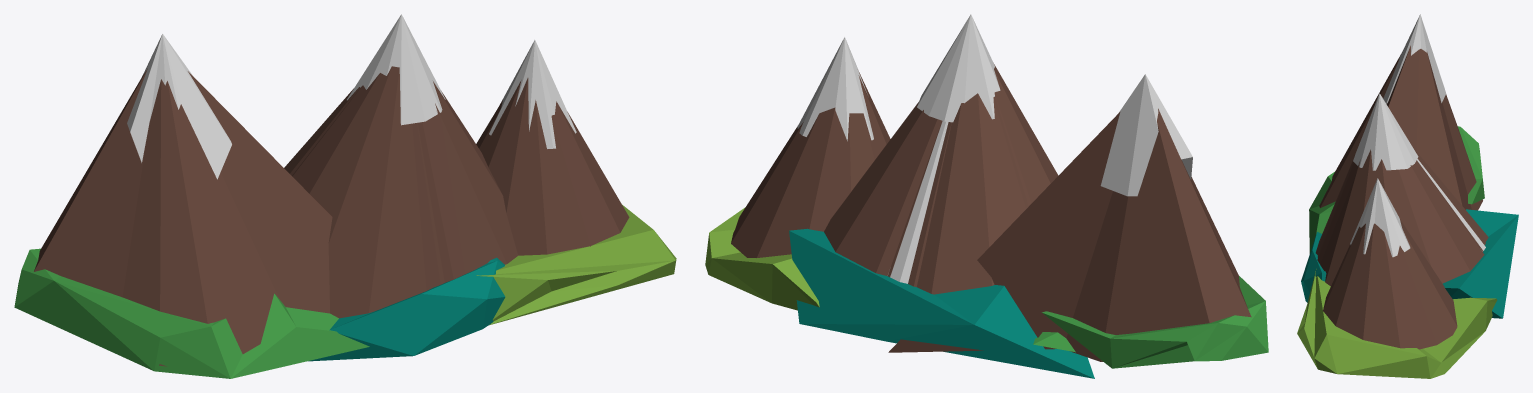
The picture shows the model from 3 angles, left to right: view 1: azimuth 30°, elevation 25°; view 2: azimuth 150°, elevation 25°; view 3: azimuth 270°, elevation 25°; orthographic projection. The views are drawn at different scales.
Visible parts, largest first — view 1: node_MeshObject59937792-PolyPaper20; view 2: node_MeshObject59937792-PolyPaper20; view 3: node_MeshObject59937792-PolyPaper20.
Boxes of the visible parts, left/top/right/bottom form: node_MeshObject59937792-PolyPaper20: left=14, top=14, right=676, bottom=378; node_MeshObject59937792-PolyPaper20: left=705, top=14, right=1268, bottom=378; node_MeshObject59937792-PolyPaper20: left=1297, top=14, right=1518, bottom=378.
Size of the model in its own units: 2.81 by 1.43 by 1.3.
